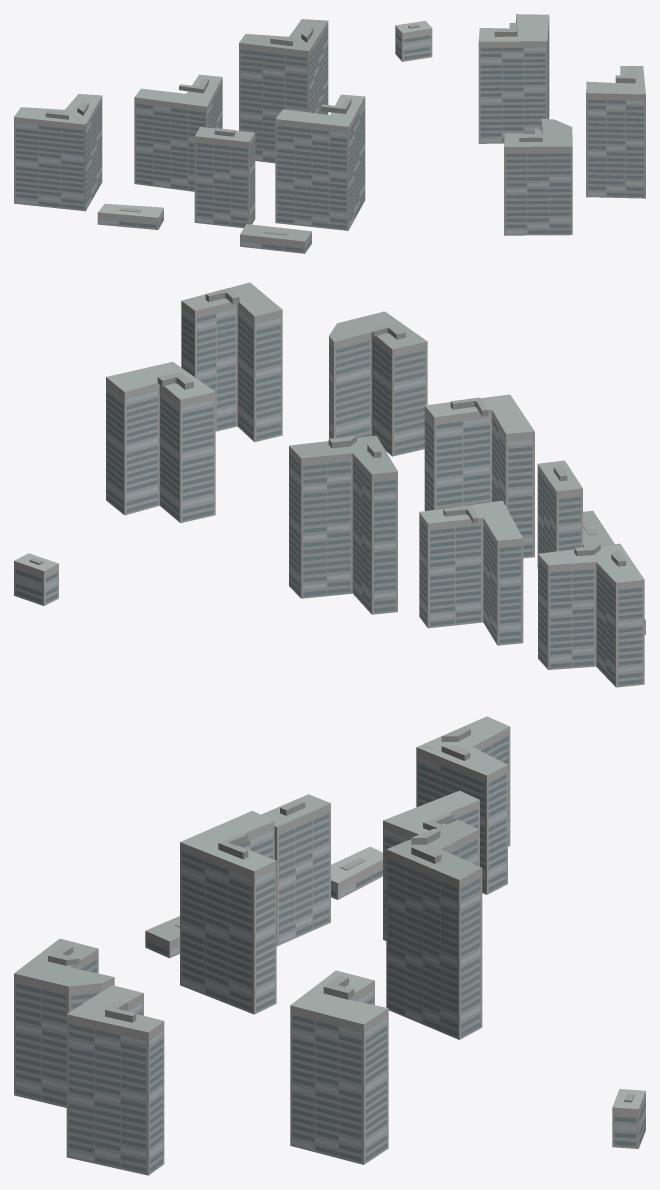
File: apt-a41279922.glb
The picture shows the model from 3 angles, top to bottom: view 1: azimuth 30°, elevation 25°; view 2: azimuth 150°, elevation 25°; view 3: azimuth 270°, elevation 25°; orthographic projection. The views are drawn at different scales.
Parts seen in each view (by area): view 1: apt-a41279922; view 2: apt-a41279922; view 3: apt-a41279922.
Boxes of the visible parts, bbox=[...] form: apt-a41279922: bbox=[14, 14, 645, 253]; apt-a41279922: bbox=[14, 282, 645, 687]; apt-a41279922: bbox=[14, 716, 645, 1175].
Size of the model in its own units: 263 by 60 by 206.
